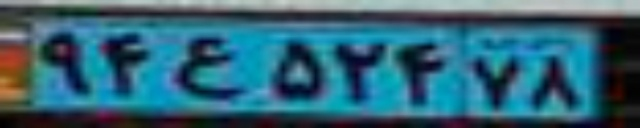2: (331, 41, 388, 102)
4: (95, 32, 150, 94), (395, 41, 447, 105)
5: (270, 41, 325, 99)
7: (469, 51, 523, 110)
8: (529, 54, 582, 110)
9: (39, 32, 89, 94)
ain: (167, 35, 244, 100)
